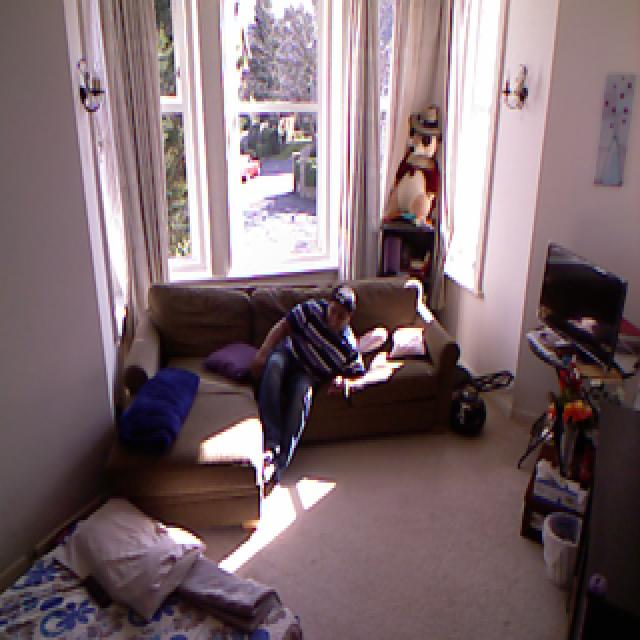lying: (243, 284, 365, 488)
